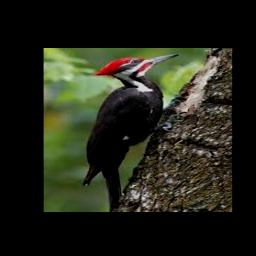Woodpecker: (83, 53, 181, 211)
